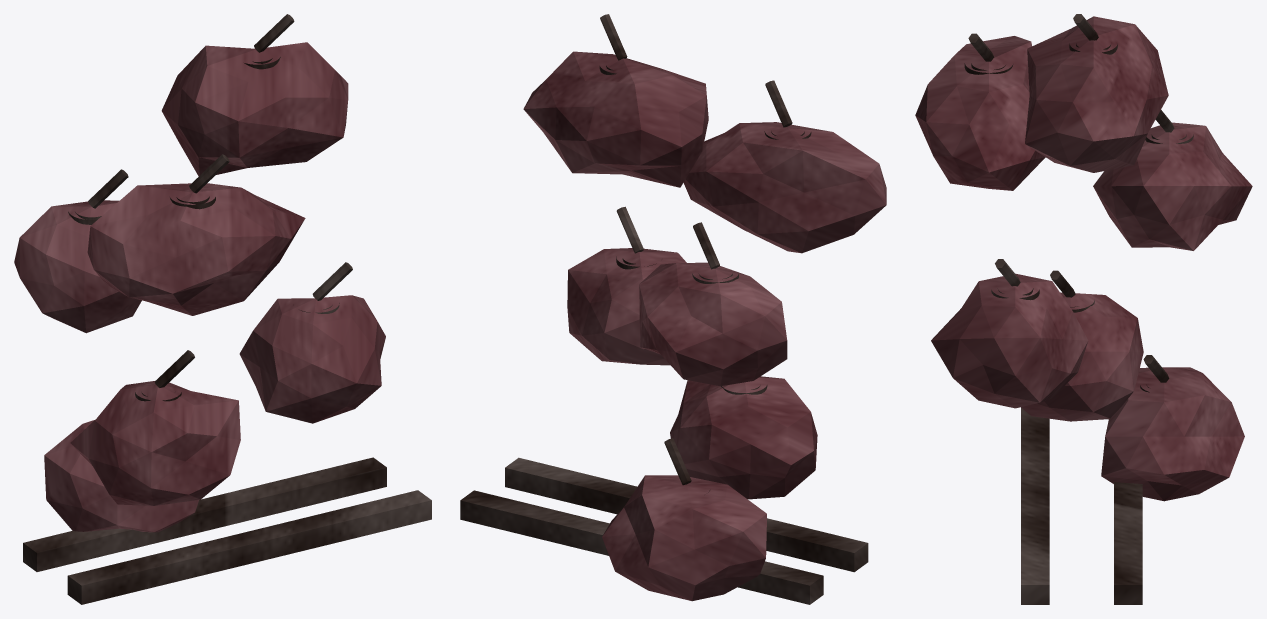
Rendered from 0819_sack_stack_19.glb.
3 renders of one model, left to right at view 1: azimuth 30°, elevation 25°; view 2: azimuth 150°, elevation 25°; view 3: azimuth 270°, elevation 25°, orthographic. The views are drawn at different scales.
Parts seen in each view (by area): view 1: cloth, wood_dark; view 2: cloth, wood_dark; view 3: cloth, wood_dark.
Boxes of the visible parts, x1=… form: cloth: x1=14, y1=42, x2=385, y2=532; wood_dark: x1=23, y1=14, x2=431, y2=604; cloth: x1=523, y1=51, x2=886, y2=601; wood_dark: x1=460, y1=14, x2=868, y2=604; cloth: x1=915, y1=16, x2=1252, y2=501; wood_dark: x1=964, y1=14, x2=1193, y2=604.
Size of the model in its own units: 1.92 by 2.68 by 1.53.
2 materials, 2 textured.
